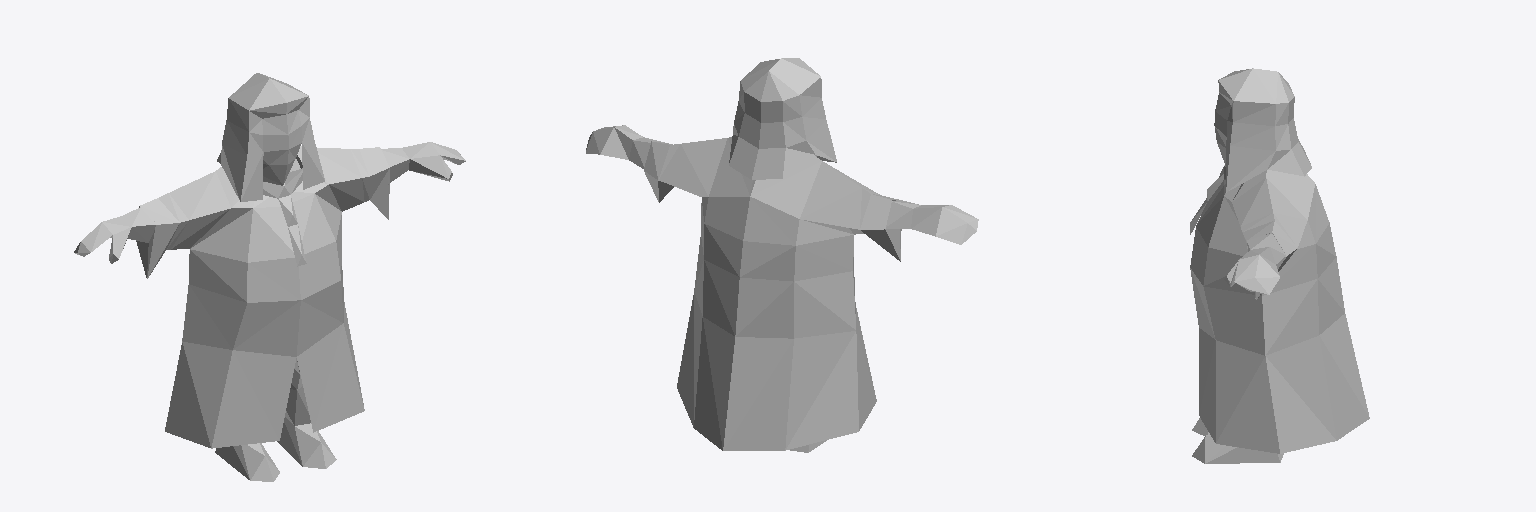
Rendered from Twisted Judge.obj.
3 views of the same model, side by side, from view 1: azimuth 30°, elevation 25°; view 2: azimuth 150°, elevation 25°; view 3: azimuth 270°, elevation 25° (orthographic).
Parts seen in each view (by area): view 1: Judge.001; view 2: Judge.001; view 3: Judge.001.
Part boxes in pixels (bbox=[...]): Judge.001: bbox=[74, 73, 465, 481]; Judge.001: bbox=[586, 58, 978, 452]; Judge.001: bbox=[1190, 68, 1369, 463].
Size of the model in its own units: 3.84 by 3.56 by 1.55.